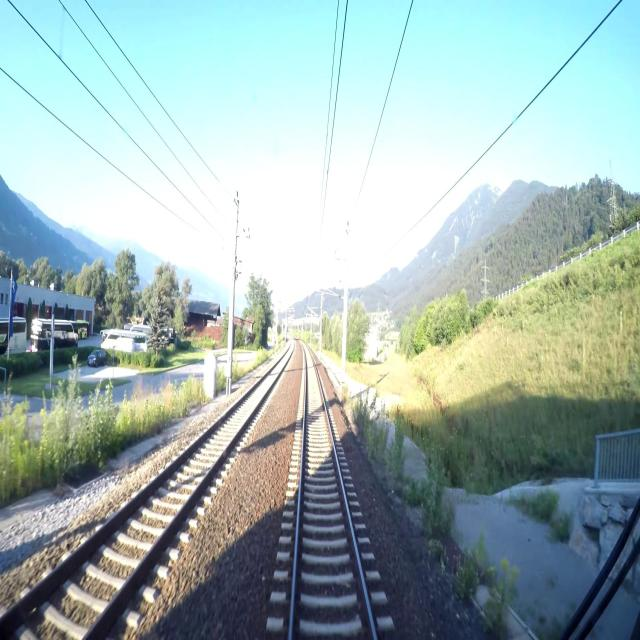rail-track: (0, 343, 293, 639), (293, 348, 372, 639)
